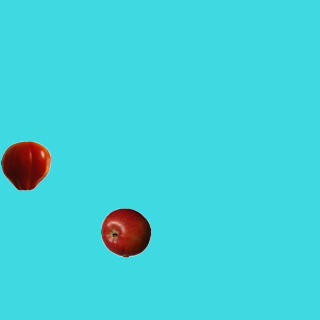Apple Braeburn: (100, 207, 150, 257)
Tomato 1: (0, 140, 50, 190)
